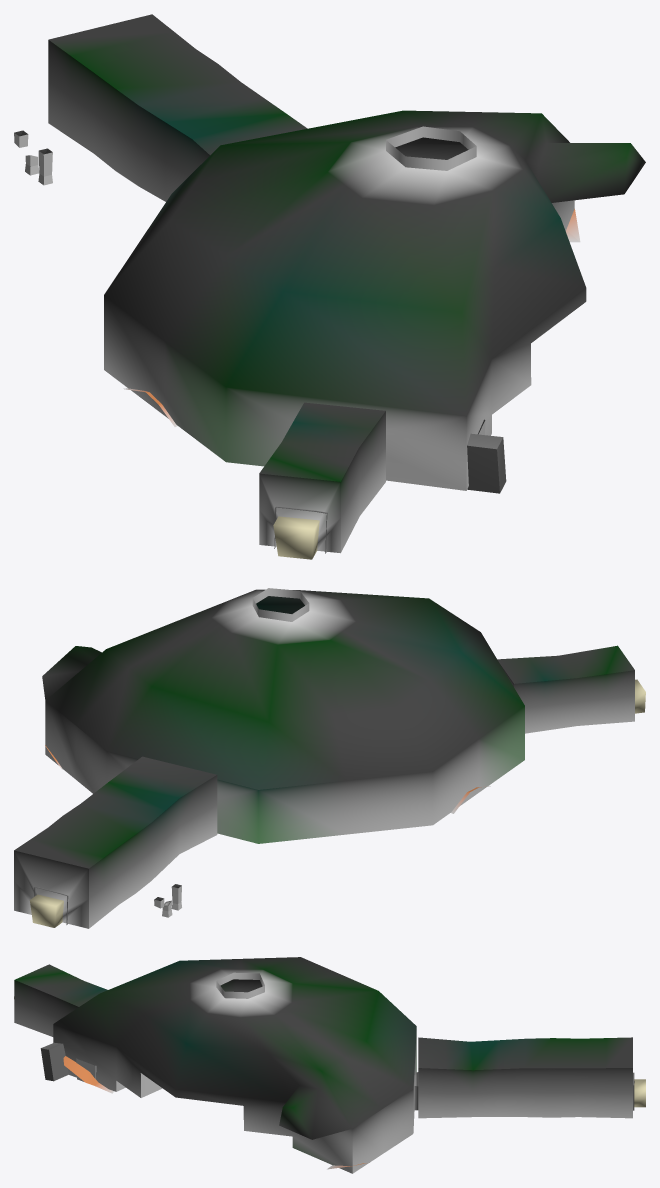
File: CajolmecTemple.fbx
The picture shows the model from 3 angles, top to bottom: view 1: azimuth 30°, elevation 25°; view 2: azimuth 150°, elevation 25°; view 3: azimuth 270°, elevation 25°; orthographic projection. The views are drawn at different scales.
Parts seen in each view (by area): view 1: Terrain; view 2: Terrain; view 3: Terrain.
Part boxes in pixels (left/top/right/bottom): Terrain: left=14, top=14, right=645, bottom=559; Terrain: left=14, top=588, right=645, bottom=928; Terrain: left=14, top=957, right=645, bottom=1173.
Size of the model in its own units: 10257 by 3364 by 15395.
